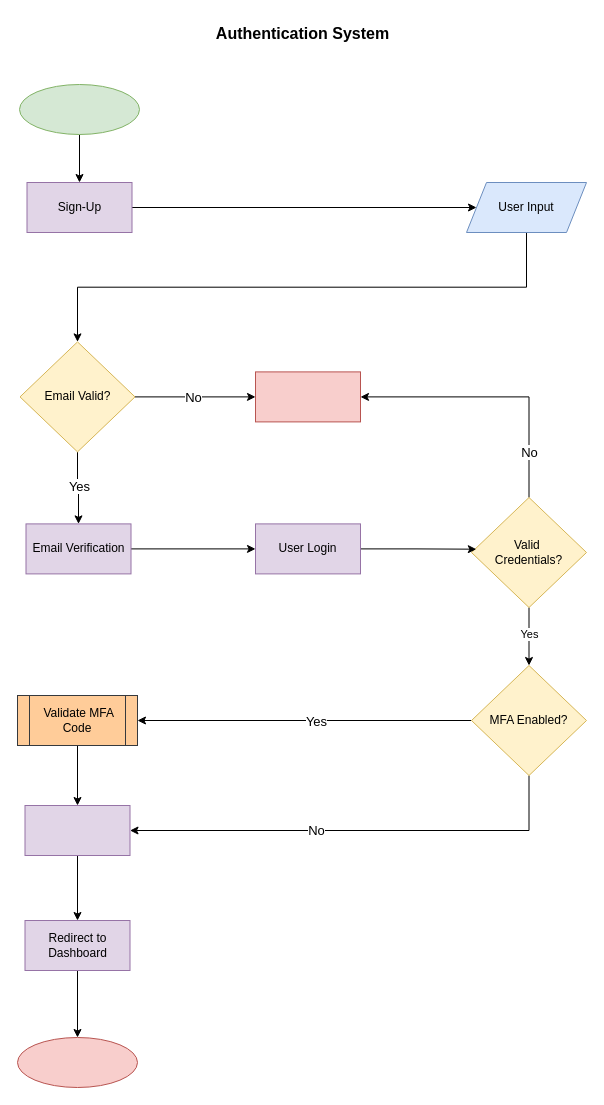
Some shapes in this 604 by 1105 pixel diagram are drawn without their labels. The centre of each missing label's shape, as x and y in pixels:
End: (x=77, y=1062)
Error & Retry: (x=307, y=396)
Generate Token & Create Session: (x=77, y=830)
Start: (x=79, y=109)
